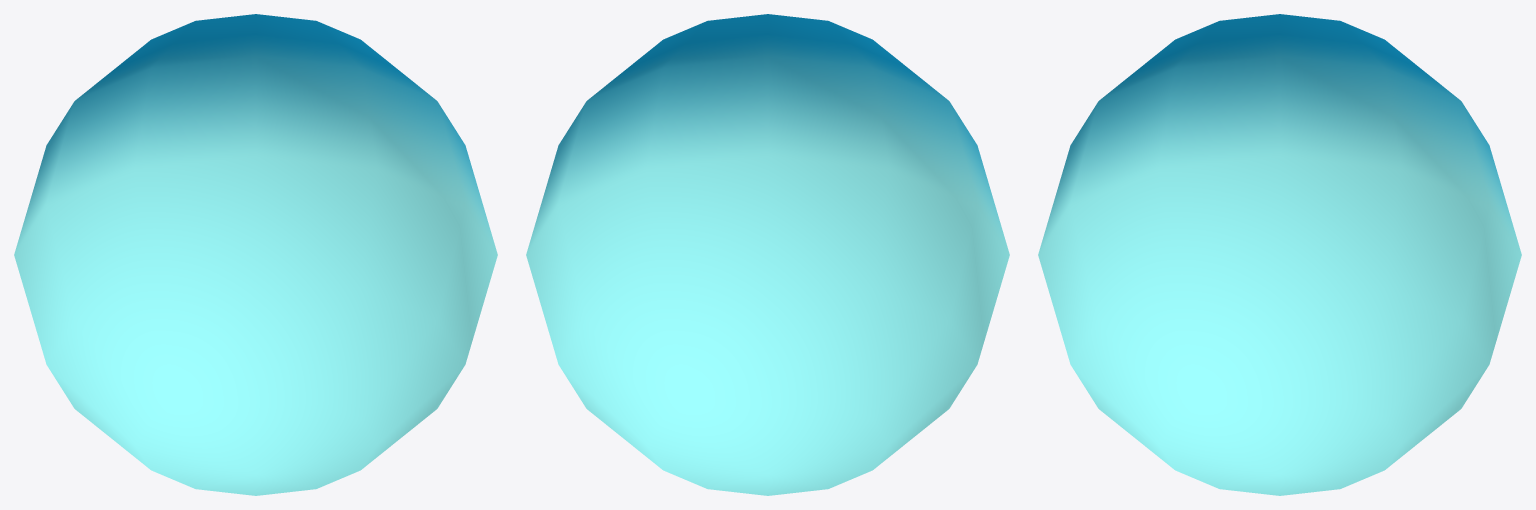
File: sky.glb
The picture shows the model from 3 angles, left to right: view 1: azimuth 30°, elevation 25°; view 2: azimuth 150°, elevation 25°; view 3: azimuth 270°, elevation 25°; orthographic projection.
Visible parts, largest first — view 1: Sky; view 2: Sky; view 3: Sky.
Part boxes in pixels (x1,y1,x2,y2): Sky: (14, 14, 497, 495); Sky: (526, 14, 1009, 495); Sky: (1038, 14, 1521, 495).
Size of the model in its own units: 600 by 600 by 600.
Materials: 1 (1 with a texture image).
